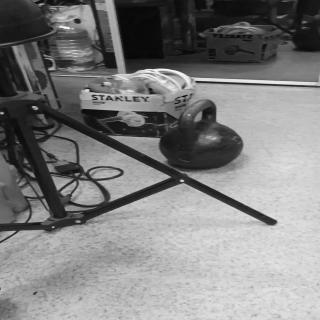kettlebell: (159, 99, 245, 171)
